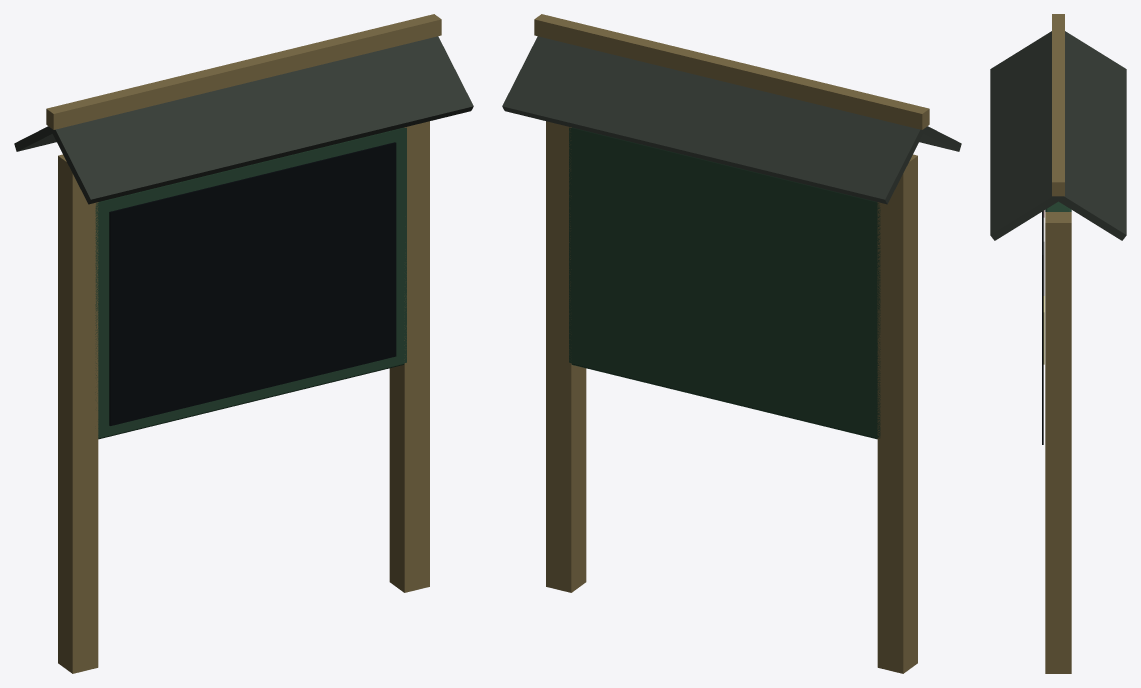
The model's file is street.furniture.notice_board.glb.
The picture shows the model from 3 angles, left to right: view 1: azimuth 30°, elevation 25°; view 2: azimuth 150°, elevation 25°; view 3: azimuth 270°, elevation 25°; orthographic projection. The views are drawn at different scales.
Visible parts, largest first — view 1: main__glass_dark, main__timber_764, main__timber_333, main__timber_243; view 2: main__timber_243, main__timber_764, main__timber_333; view 3: main__timber_333, main__timber_764, main__glass_dark.
Part boxes in pixels (x1=…): main__glass_dark: x1=109, y1=142, x2=396, y2=425; main__timber_764: x1=46, y1=14, x2=441, y2=673; main__timber_333: x1=14, y1=36, x2=473, y2=204; main__timber_243: x1=95, y1=127, x2=406, y2=439; main__timber_243: x1=569, y1=127, x2=880, y2=439; main__timber_764: x1=534, y1=14, x2=929, y2=673; main__timber_333: x1=502, y1=36, x2=961, y2=204; main__timber_333: x1=990, y1=31, x2=1126, y2=240; main__timber_764: x1=1045, y1=14, x2=1071, y2=673; main__glass_dark: x1=1042, y1=211, x2=1043, y2=444.
Bounding box in the file's own units: 1.52 × 2.1 × 0.521.
